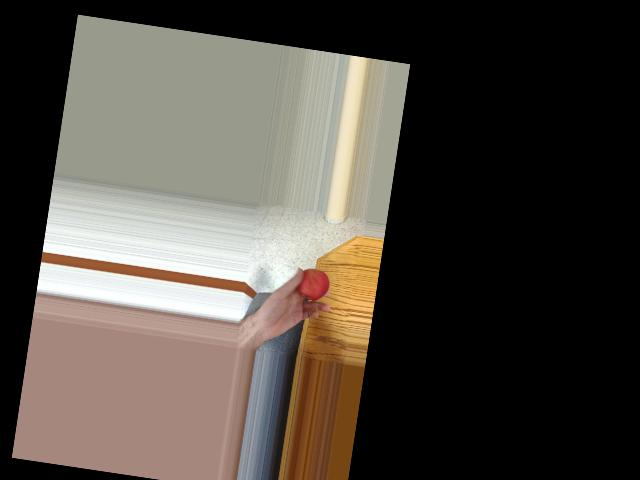apple: (290, 265, 331, 307)
